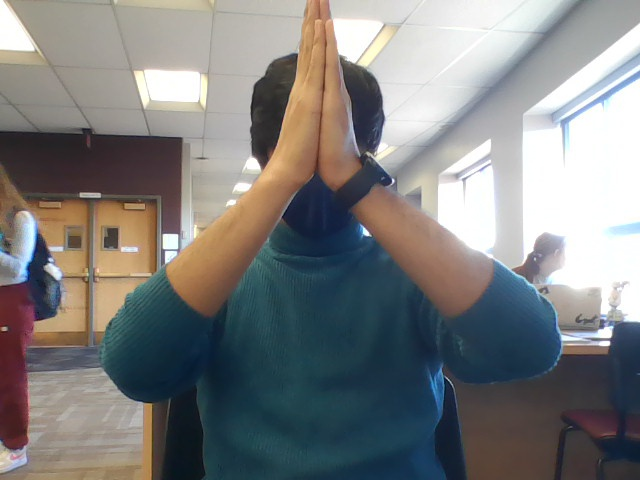start: (264, 1, 384, 194), (263, 1, 374, 192)
